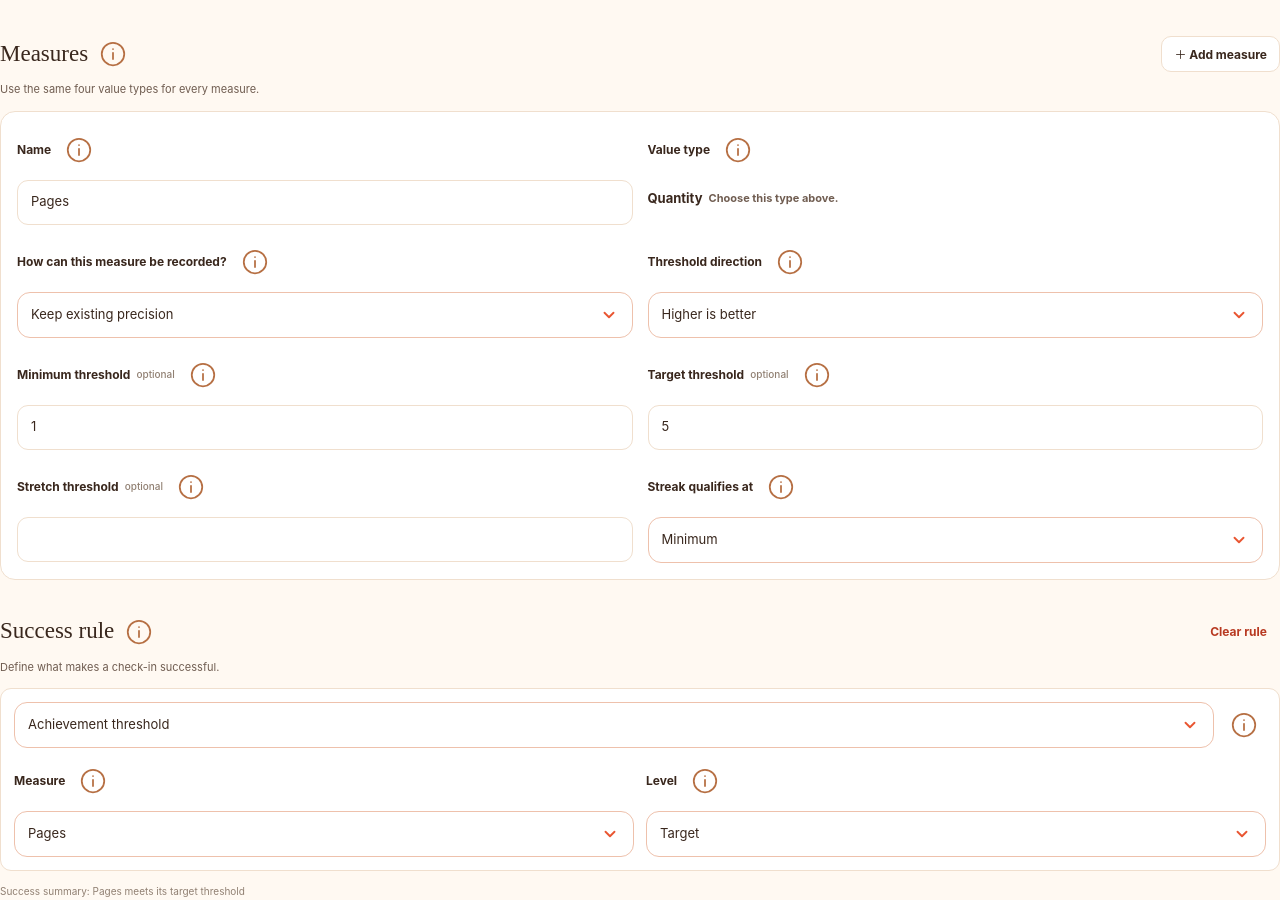
Test: Tracker configuration explanations › distinguishes success-rule completion from streak qualification in both modes
Click the button named "More about Streak qualification". click: {"x": 781, "y": 486}
box: [759, 464, 803, 508]
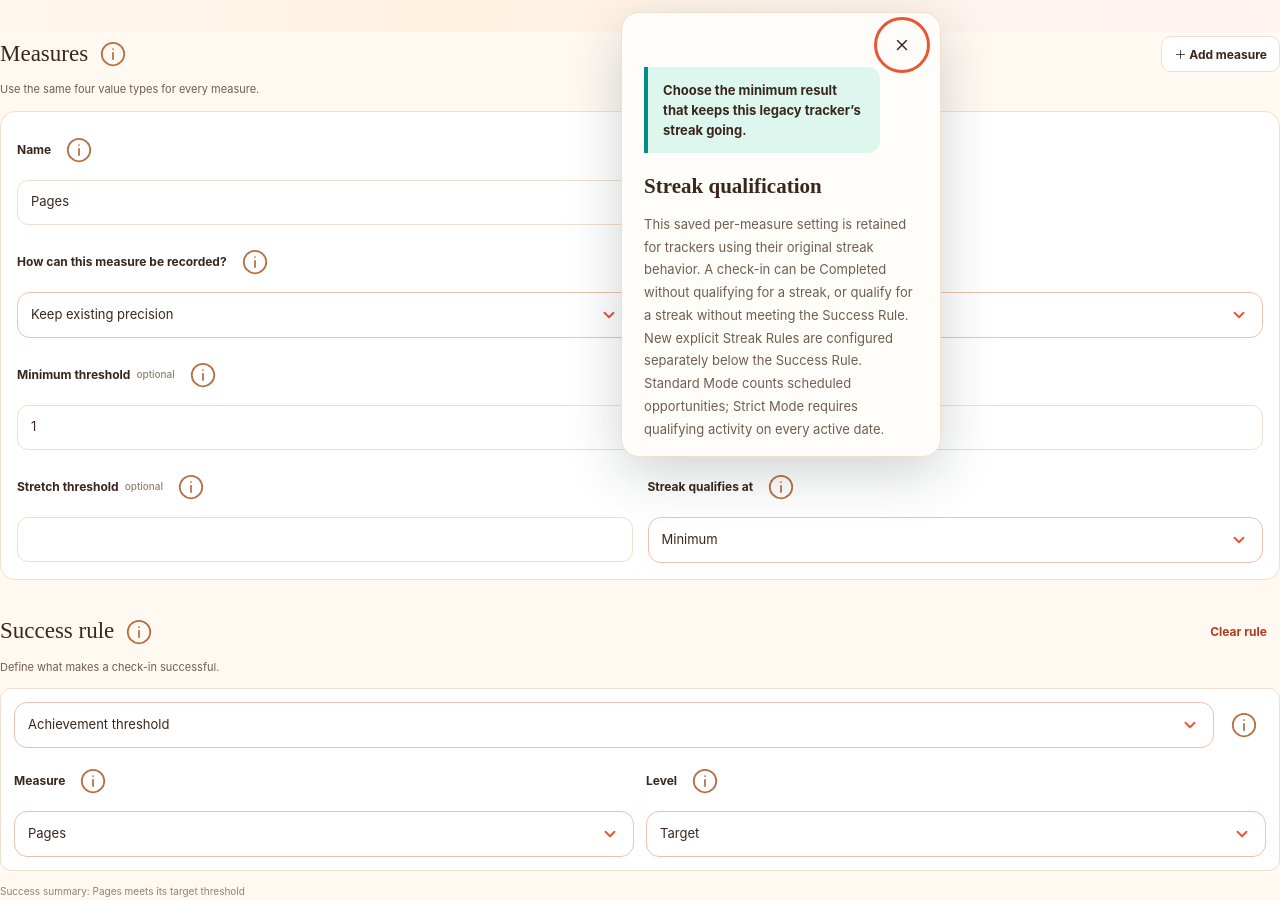
Result: the dialog named "Streak qualification" shows "New explicit Streak Rules are configured separately below the Success Rule" at [644, 216, 913, 437]
Result: the dialog named "Streak qualification" shows "Completed without qualifying for a streak" at [644, 216, 913, 437]
Result: the dialog named "Streak qualification" shows "Standard Mode counts scheduled opportunities" at [644, 216, 913, 437]
